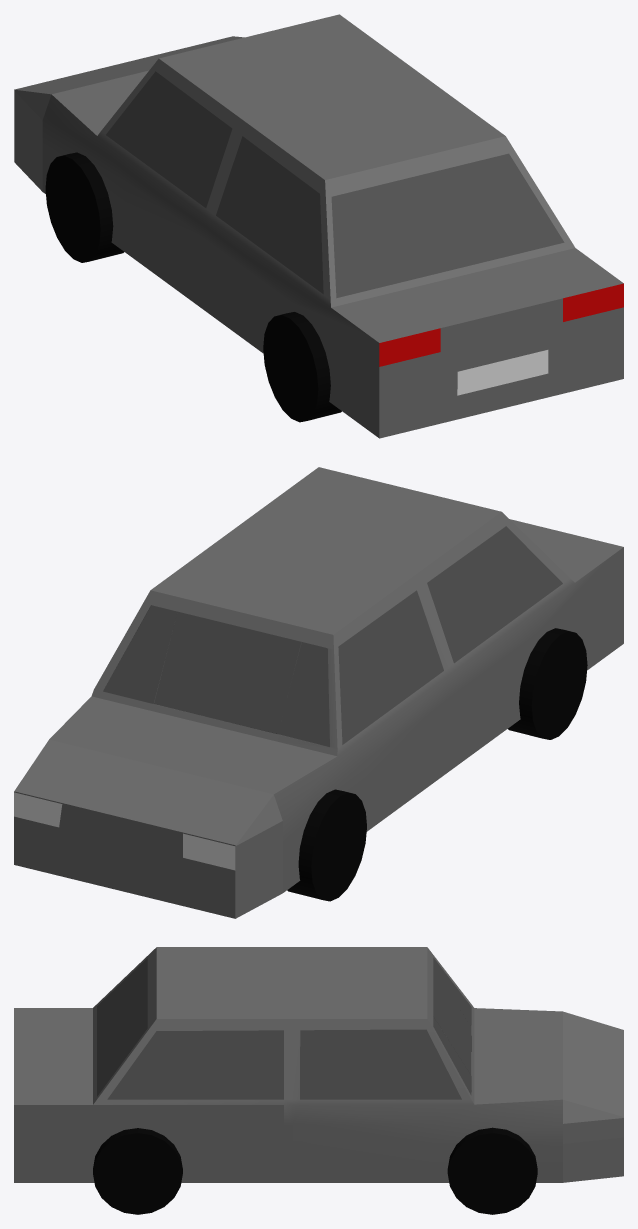
File: carBlack.fbx
3 views of the same model, one above another, from view 1: azimuth 30°, elevation 25°; view 2: azimuth 150°, elevation 25°; view 3: azimuth 270°, elevation 25° (orthographic). The views are drawn at different scales.
Visible parts, largest first — view 1: pasted__pCube1, pasted__pasted__pCylinder1, pasted__pCylinder1; view 2: pasted__pCube1, pasted__pCylinder1, pasted__pasted__pCylinder1; view 3: pasted__pCube1, pasted__pasted__pasted__pCylinder1, pasted__pasted__pasted__pasted__pCylinder1.
Part boxes in pixels (x1,y1,x2,y2): pasted__pCube1: [14, 14, 623, 438]; pasted__pasted__pCylinder1: [45, 152, 123, 262]; pasted__pCylinder1: [263, 312, 341, 422]; pasted__pCube1: [14, 467, 623, 918]; pasted__pCylinder1: [508, 628, 587, 739]; pasted__pasted__pCylinder1: [287, 789, 366, 901]; pasted__pCube1: [14, 947, 623, 1182]; pasted__pasted__pasted__pCylinder1: [447, 1127, 537, 1214]; pasted__pasted__pasted__pasted__pCylinder1: [93, 1128, 182, 1214].
Size of the model in its own units: 4.3 by 3.32 by 10.29.
